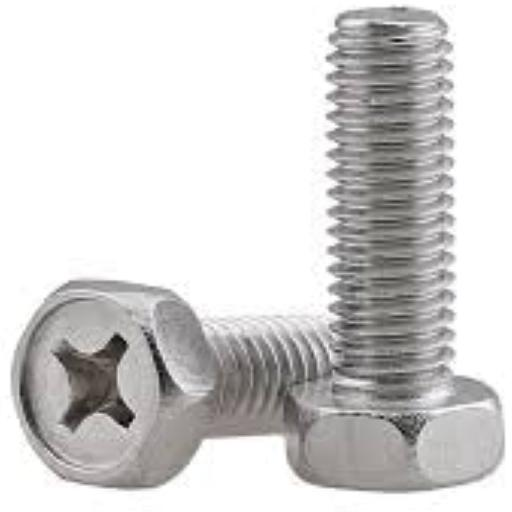Phillips: (14, 278, 209, 491)
